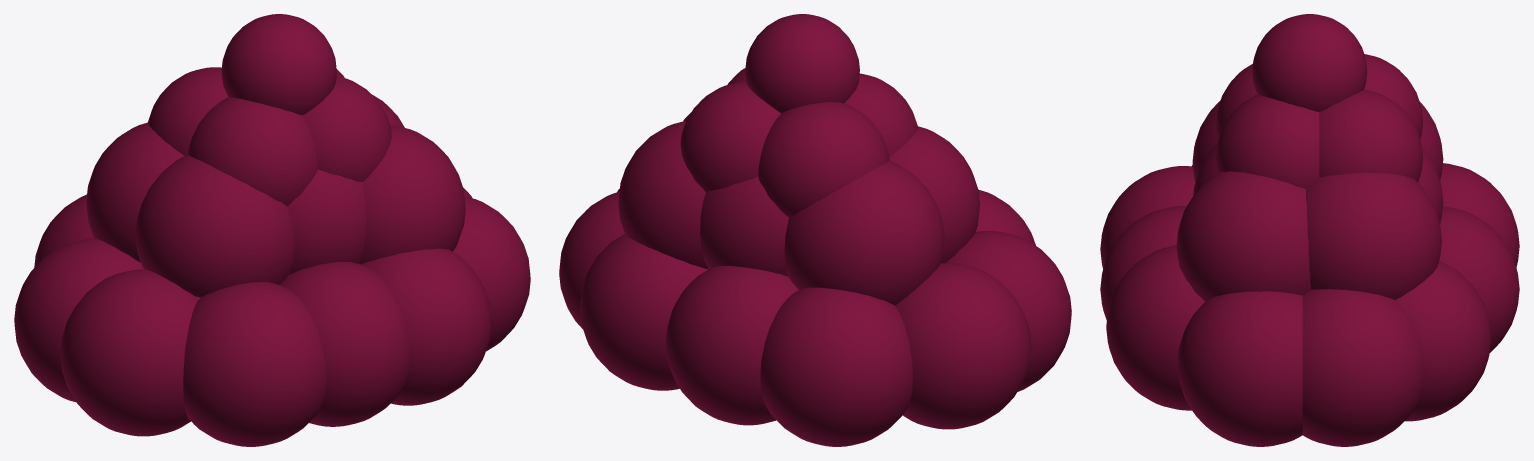
The model's file is bonbon_mure.dae.
The picture shows the model from 3 angles, left to right: view 1: azimuth 30°, elevation 25°; view 2: azimuth 150°, elevation 25°; view 3: azimuth 270°, elevation 25°; orthographic projection.
Visible parts, largest first — view 1: Sphere_002; view 2: Sphere_002; view 3: Sphere_002.
Boxes of the visible parts, bbox=[...] form: Sphere_002: bbox=[14, 14, 530, 446]; Sphere_002: bbox=[559, 14, 1071, 446]; Sphere_002: bbox=[1100, 14, 1519, 446].
Bounding box in the file's own units: 1.84 × 1.48 × 1.37.
